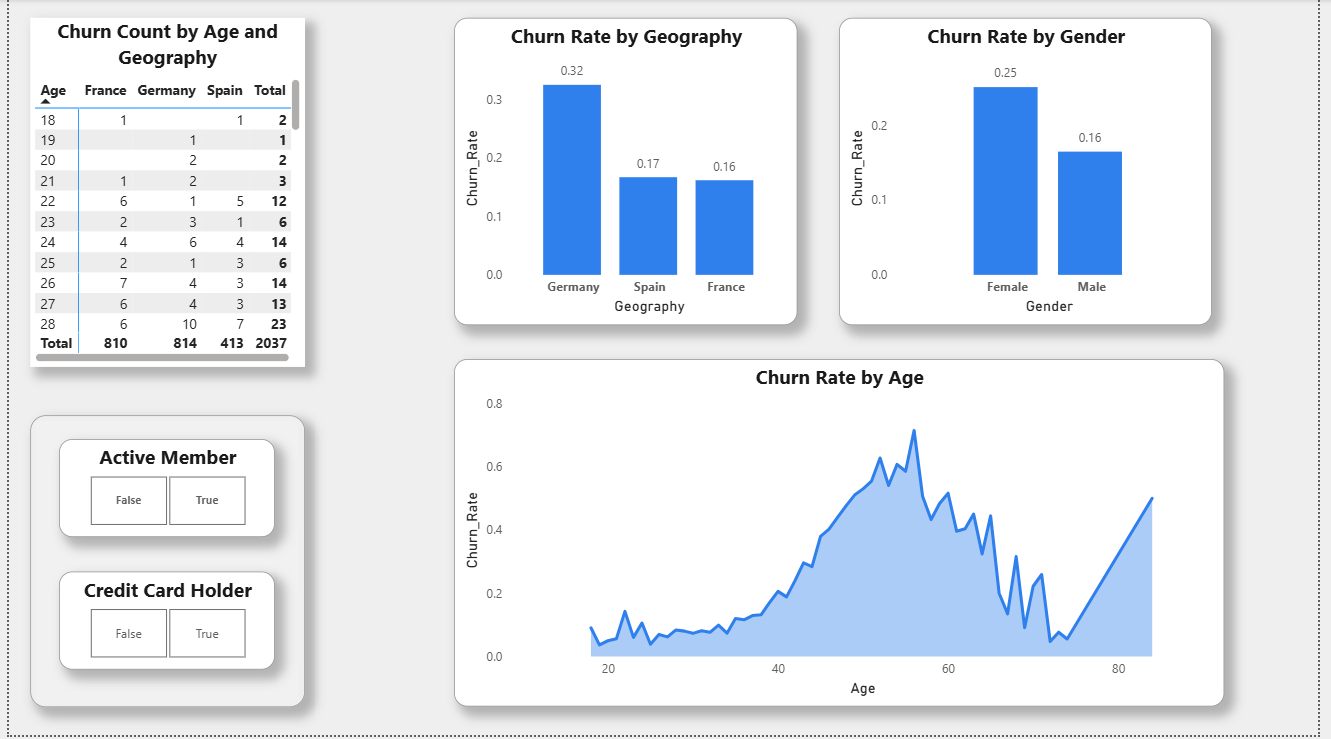

The page's visual inventory and layout, read from the dashboard file:
{"tool":"powerbi","page":{"name":"Churn by Demographics","canvas":[1280,720],"ordinal":2},"visuals":[{"type":"columnChart","title":"Churn Rate by Geography","fields":{"Category":["Churn_Modelling.Geography"],"Y":["Churn_Modelling.Churn_Rate"]},"box":[435,17.8,336.2,300.5],"z":0},{"type":"columnChart","title":"Churn Rate by Gender","fields":{"Category":["Churn_Modelling.Gender"],"Y":["Churn_Modelling.Churn_Rate"]},"box":[812.4,17.8,365,300.5],"z":1000},{"type":"pivotTable","title":"Churn Count by Age and Geography ","fields":{"Rows":["Churn_Modelling.Age"],"Columns":["Churn_Modelling.Geography"],"Values":["Churn_Modelling.churn_count"]},"box":[20.6,17.8,269,341.7],"z":2000},{"type":"shape","box":[20.6,407.5,269,285.4],"z":2500},{"type":"areaChart","title":"Churn Rate by Age Group","fields":{"Category":["Churn_Modelling.Age Group"],"Y":["Churn_Modelling.Churn_Rate"]},"box":[435,352.7,753.3,340.3],"z":3000},{"type":"slicer","title":"Active Member","fields":{"Values":["Churn_Modelling.IsActiveMember"]},"box":[49.4,430.9,211.3,96.1],"z":4000},{"type":"slicer","title":"Credit Card Holder","fields":{"Values":["Churn_Modelling.HasCrCard"]},"box":[49.4,559.9,211.3,96.1],"z":5000}]}

Visuals, with their boxes in screenshot pixels (x1, y1, x2, y2), scaled from the page's 1280x720 canvas onto the 1331x739 screenshot:
"Churn Rate by Geography" columnChart: <region>452, 18, 802, 327</region>
"Churn Rate by Gender" columnChart: <region>845, 18, 1224, 327</region>
"Churn Count by Age and Geography " pivotTable: <region>21, 18, 301, 369</region>
shape: <region>21, 418, 301, 711</region>
"Churn Rate by Age Group" areaChart: <region>452, 362, 1236, 711</region>
"Active Member" slicer: <region>51, 442, 271, 541</region>
"Credit Card Holder" slicer: <region>51, 575, 271, 673</region>
